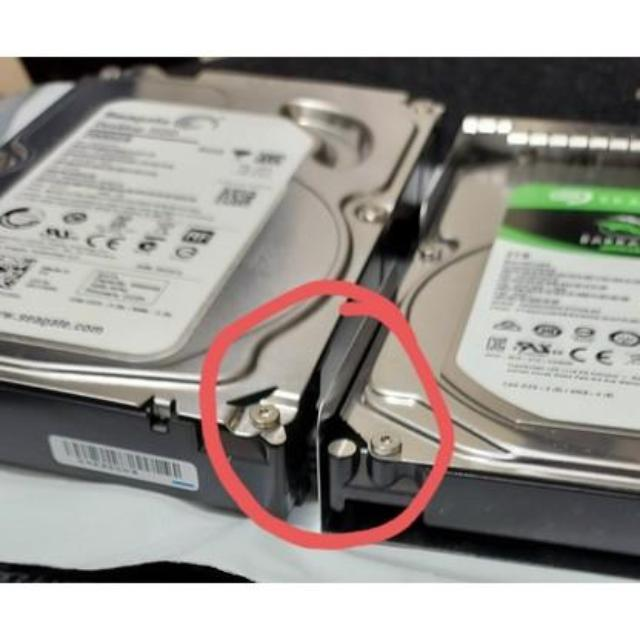DISK: (0, 74, 452, 526), (322, 144, 640, 562)
